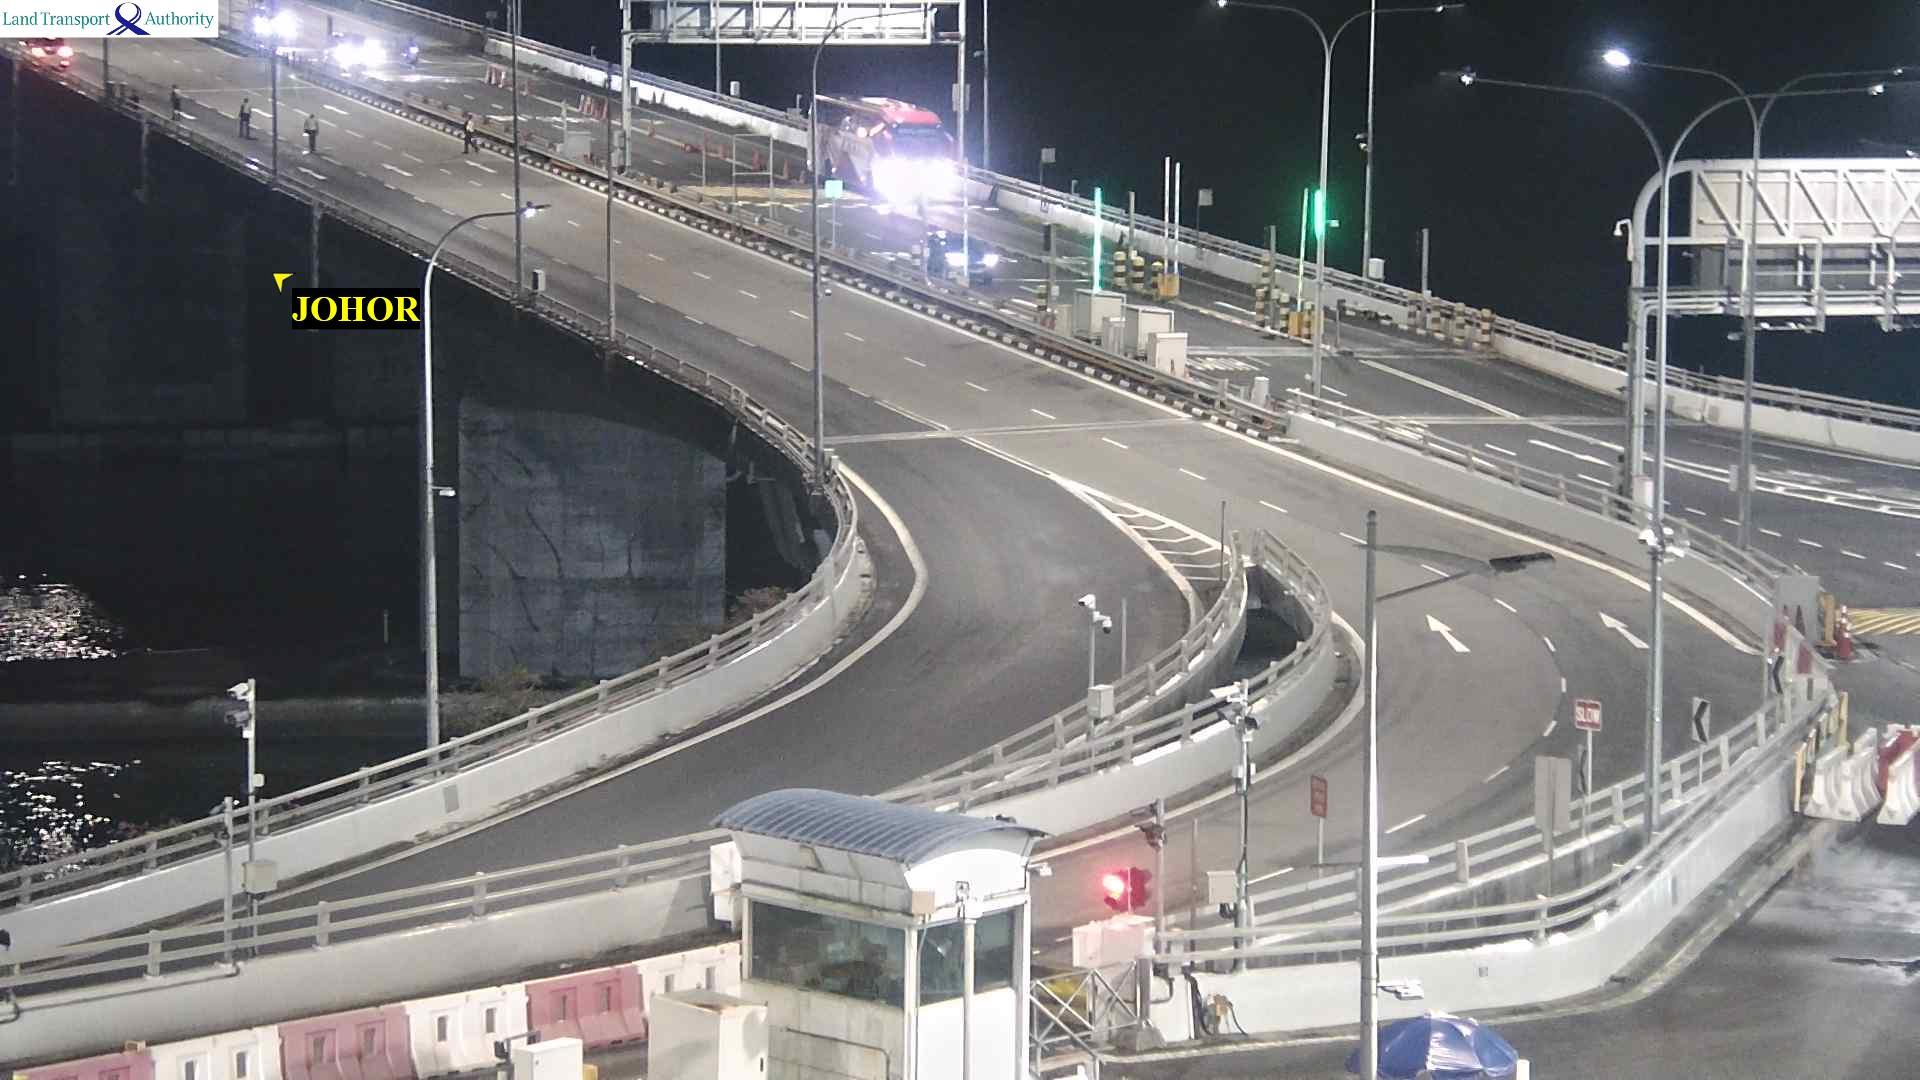vehicle-secondlink-johor: (0, 38, 69, 73)
vehicle-secondlink-singapore: (812, 94, 953, 141), (920, 235, 998, 276), (328, 36, 376, 69)
